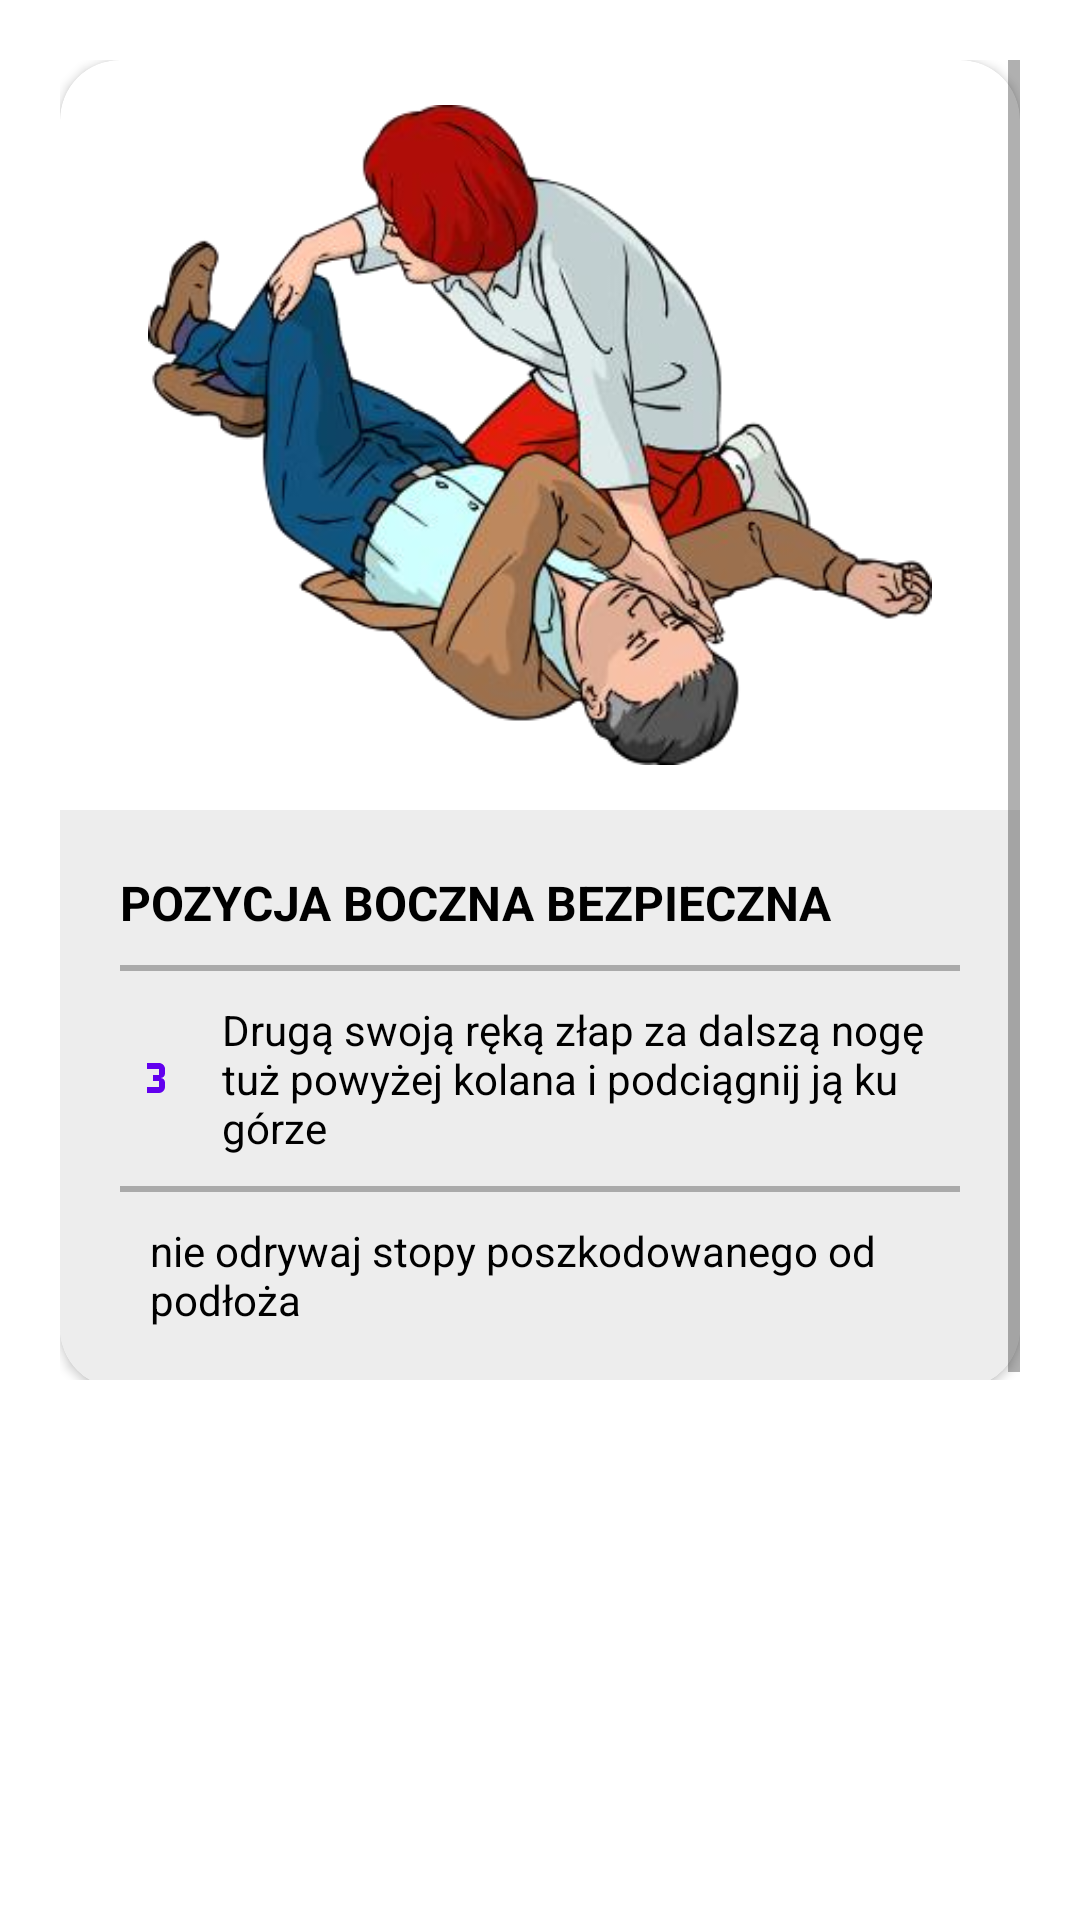

Named icons in this screenshot (1080*1920) and their centers, point (x, y):
numeric: point (156, 1078)
